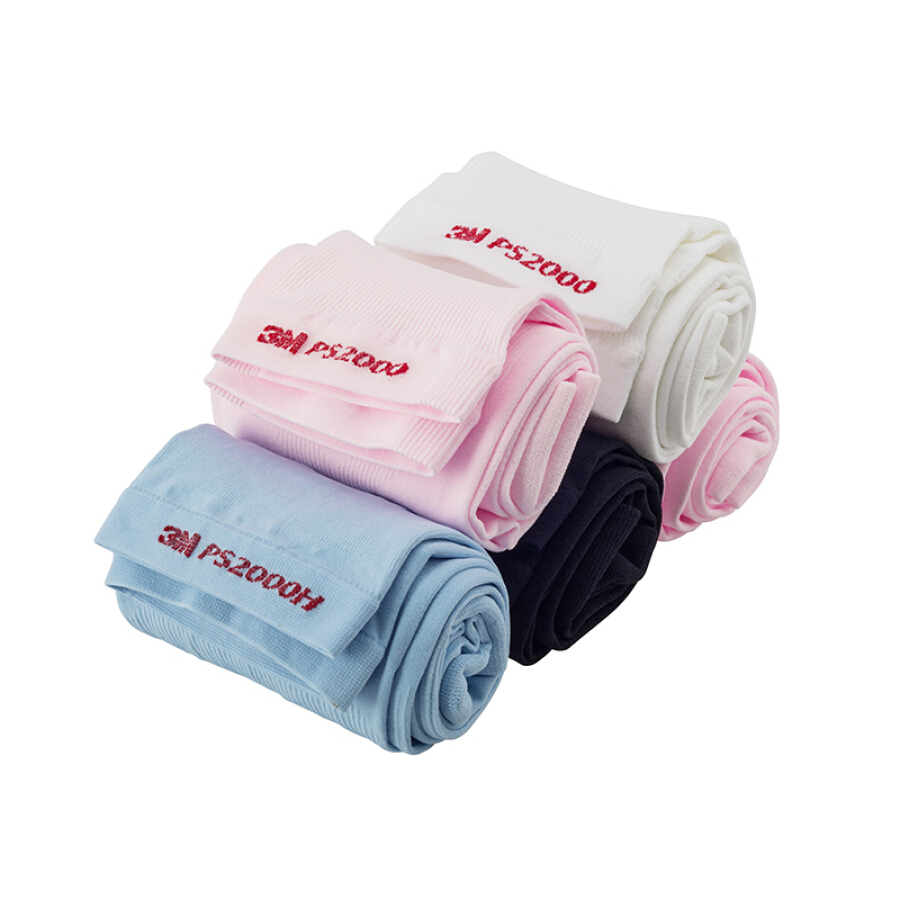3M: (255, 311, 311, 362), (153, 513, 205, 564), (441, 210, 492, 251)
